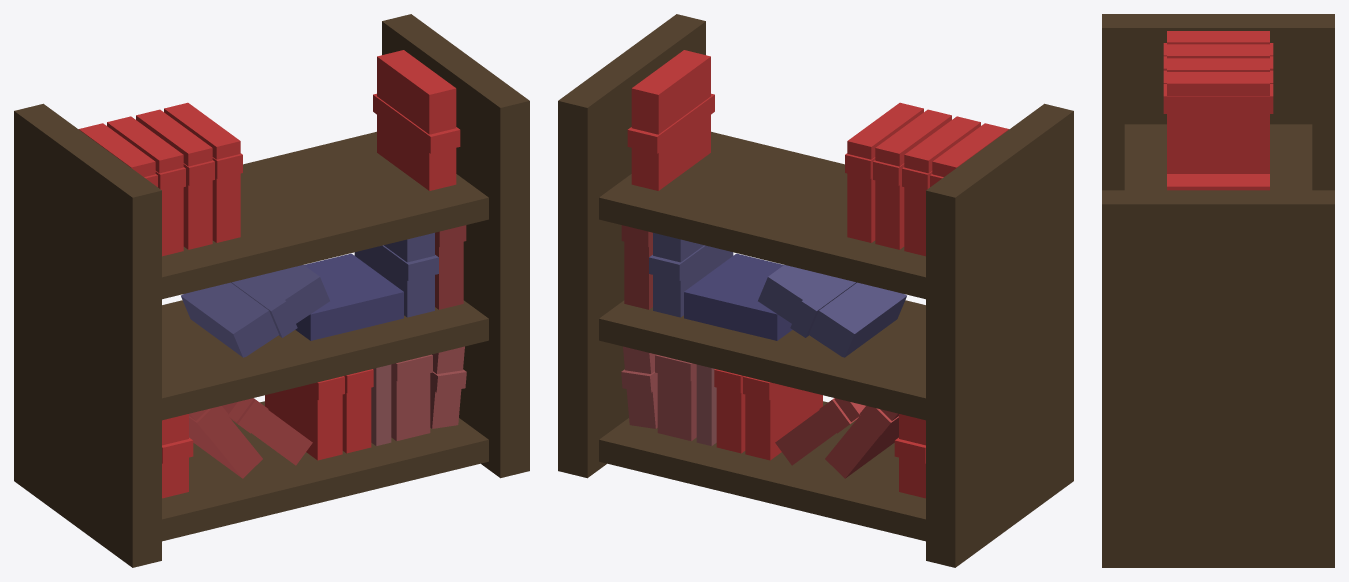
File: BookshelfT7-convcol.glb
3 renders of one model, left to right at view 1: azimuth 30°, elevation 25°; view 2: azimuth 150°, elevation 25°; view 3: azimuth 270°, elevation 25°, orthographic.
Parts seen in each view (by area): view 1: Cube.002-convcol, BOOK2.004, Cube.001, Cube.003, Cube, BOOK2.003, Cube.005, BOOK.004, BOOK2.002, BOOK, BOOK2.001, BOOK.005 (+1 smaller); view 2: Cube.002-convcol, BOOK2.004, Cube.001, Cube.003, Cube, BOOK2.003, Cube.005, BOOK.004, BOOK2.002, BOOK, BOOK2.001, BOOK.005 (+1 smaller); view 3: Cube.002-convcol, BOOK2.004, Cube.001.
Boxes of the visible parts, <box> form: Cube.002-convcol: <box>14,14,529,567</box>; BOOK2.004: <box>78,50,460,498</box>; Cube.001: <box>162,131,488,299</box>; Cube.003: <box>162,300,488,420</box>; Cube: <box>162,401,488,541</box>; BOOK2.003: <box>181,265,329,357</box>; Cube.005: <box>295,253,403,340</box>; BOOK.004: <box>189,398,312,478</box>; BOOK2.002: <box>354,232,438,317</box>; BOOK: <box>391,354,432,441</box>; BOOK2.001: <box>430,346,466,428</box>; BOOK.005: <box>435,225,466,309</box>; Cube.002-convcol: <box>558,14,1073,567</box>; BOOK2.004: <box>627,50,1009,498</box>; Cube.001: <box>599,131,925,299</box>; Cube.003: <box>599,300,925,420</box>; Cube: <box>599,401,925,541</box>; BOOK2.003: <box>758,265,906,357</box>; Cube.005: <box>684,253,792,340</box>; BOOK.004: <box>775,398,898,478</box>; BOOK2.002: <box>649,232,733,317</box>; BOOK: <box>655,354,696,441</box>; BOOK2.001: <box>621,346,657,428</box>; BOOK.005: <box>621,225,652,309</box>; Cube.002-convcol: <box>1102,14,1334,567</box>; BOOK2.004: <box>1163,31,1273,190</box>; Cube.001: <box>1124,124,1312,190</box>.
Size of the model in its own units: 3.43 by 3.06 by 1.78.
Materials: 11 (2 with a texture image).
